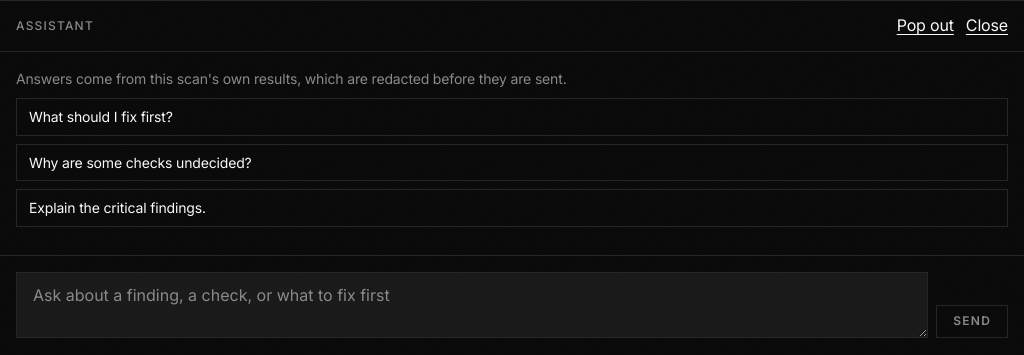
Test: Assistant › shows a failed request as a failure rather than an answer
This screenshot has width=1024, height=355.
Type "hi" into the text box named "ask about this scan".
click(472, 305); type("hi")  # box top-left (16, 272), bottom-right (928, 338)
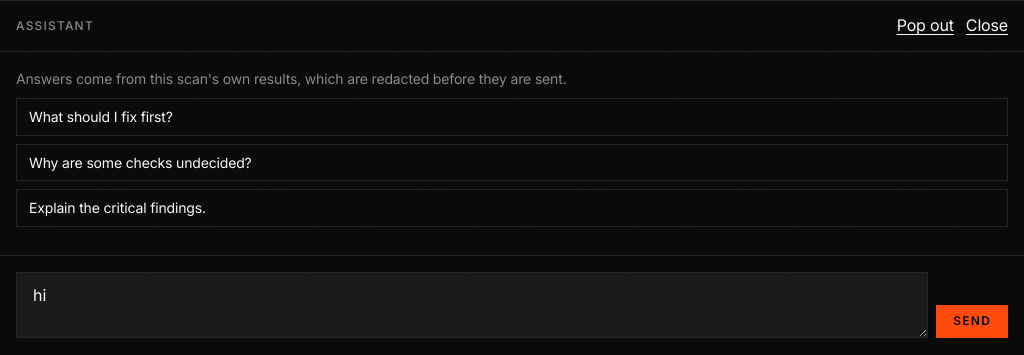
Click the button "Send".
click(972, 322)  # box top-left (936, 305), bottom-right (1008, 338)
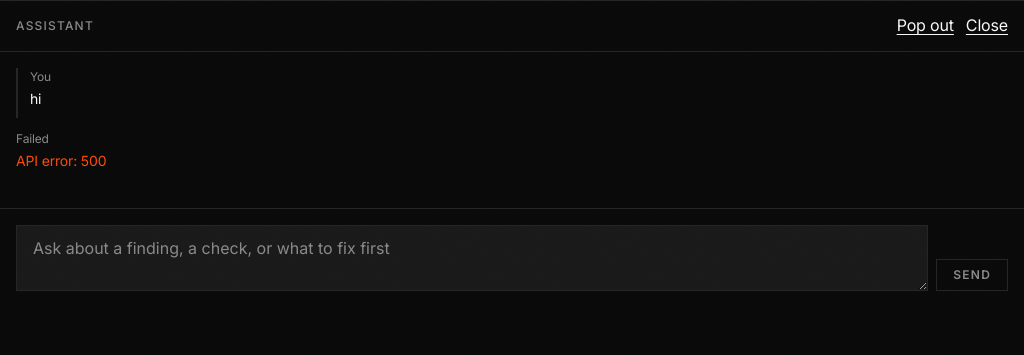
Expected: the text "API error: 500" is shown, top-left (16, 152), bottom-right (106, 170)
Expected: the text "Failed" is shown, top-left (16, 131), bottom-right (49, 146)
